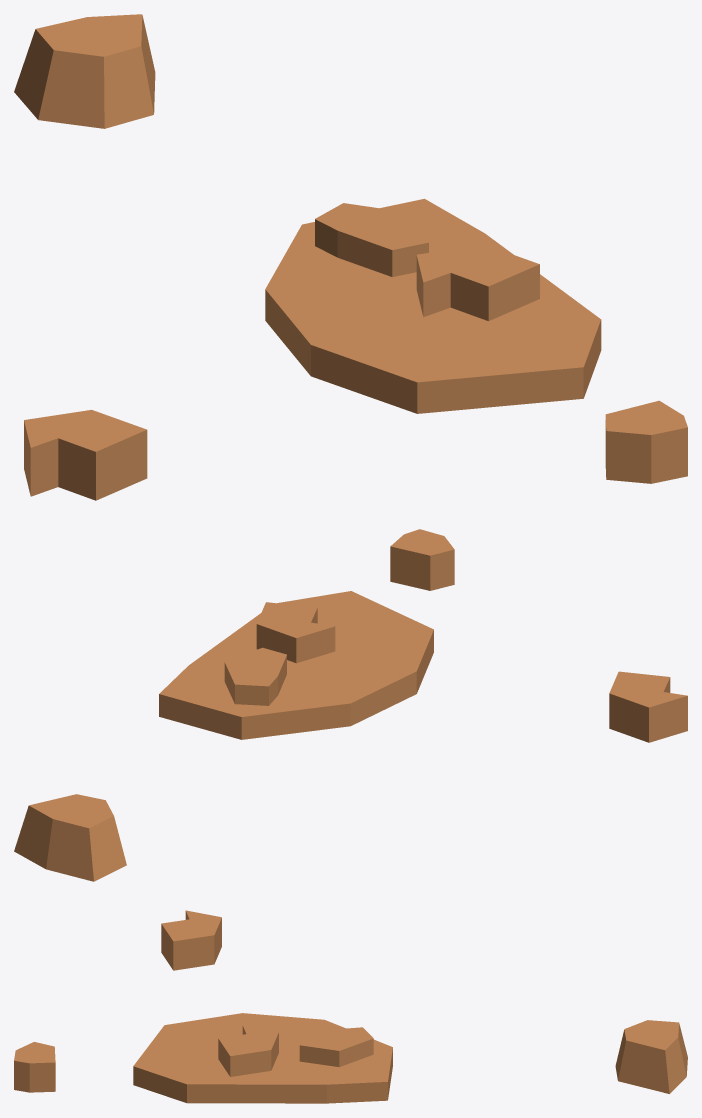
The model's file is SandRocks15_LOD1.fbx.
The picture shows the model from 3 angles, top to bottom: view 1: azimuth 30°, elevation 25°; view 2: azimuth 150°, elevation 25°; view 3: azimuth 270°, elevation 25°; orthographic projection. The views are drawn at different scales.
Visible parts, largest first — view 1: Plane.174; view 2: Plane.174; view 3: Plane.174.
Boxes of the visible parts, left/top/right/bottom form: Plane.174: left=14, top=14, right=687, bottom=500; Plane.174: left=14, top=529, right=687, bottom=881; Plane.174: left=14, top=910, right=687, bottom=1103.
Bounding box in the file's own units: 66.59 × 8.02 × 113.
